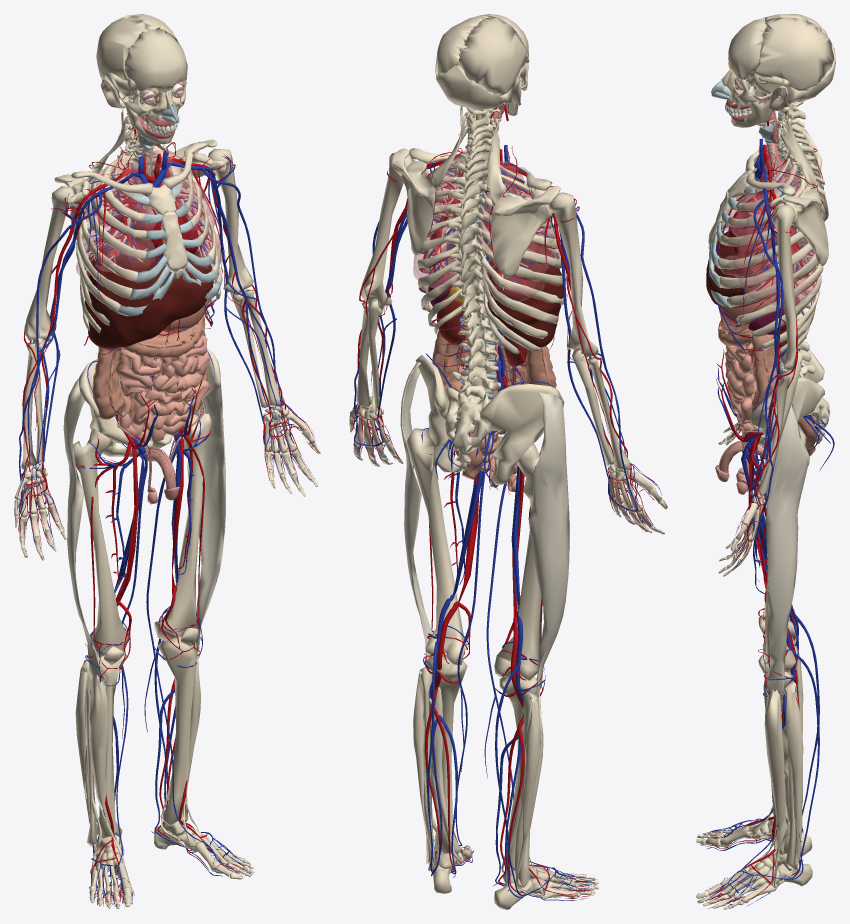
Rendered from m-inside.glb.
The picture shows the model from 3 angles, left to right: view 1: azimuth 30°, elevation 25°; view 2: azimuth 150°, elevation 25°; view 3: azimuth 270°, elevation 25°; orthographic projection. The views are drawn at different scales.
Parts seen in each view (by area): view 1: bone, organ, vein, artery, glass, heart; view 2: bone, vein, artery, organ, glass; view 3: bone, organ, vein, artery, glass, heart.
Boxes of the visible parts, bbox=[...] form: bone: bbox=[14, 14, 320, 908]; organ: bbox=[85, 78, 213, 504]; vein: bbox=[17, 151, 314, 906]; artery: bbox=[17, 126, 316, 907]; glass: bbox=[76, 149, 223, 423]; heart: bbox=[132, 205, 198, 255]; bone: bbox=[349, 14, 667, 909]; vein: bbox=[353, 145, 662, 901]; artery: bbox=[352, 105, 656, 898]; organ: bbox=[422, 79, 563, 491]; glass: bbox=[413, 150, 559, 398]; bone: bbox=[696, 14, 835, 909]; organ: bbox=[706, 76, 819, 494]; vein: bbox=[698, 138, 834, 908]; artery: bbox=[706, 77, 827, 904]; glass: bbox=[720, 149, 820, 423]; heart: bbox=[728, 209, 777, 258].
Bounding box in the file's own units: 0.6471 × 1.71 × 0.2538.
